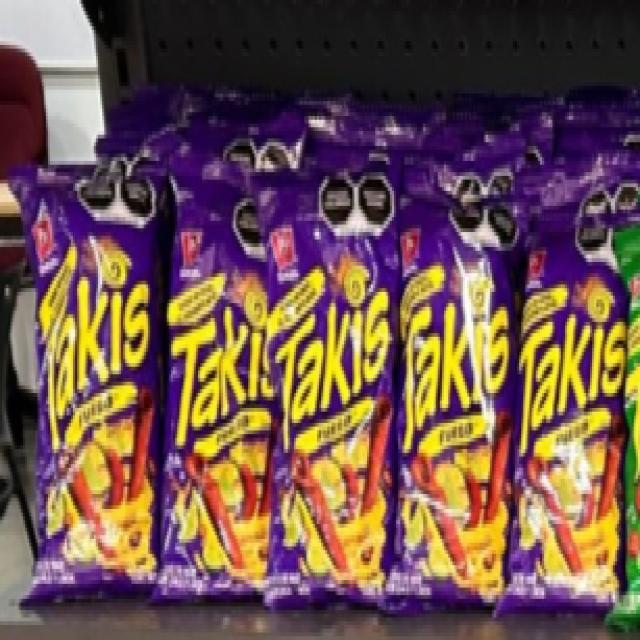takisFuego: (31, 168, 154, 591), (268, 176, 388, 597), (402, 199, 508, 612), (526, 186, 618, 605), (175, 177, 262, 596)
